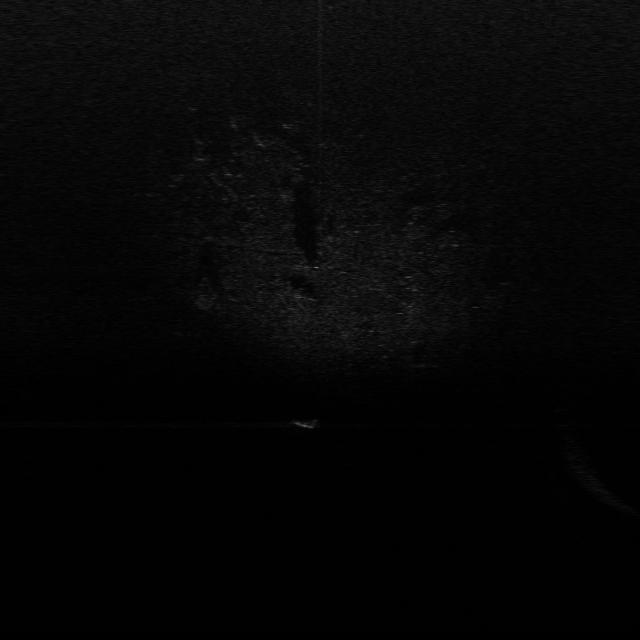square cage: (290, 417, 322, 431)
